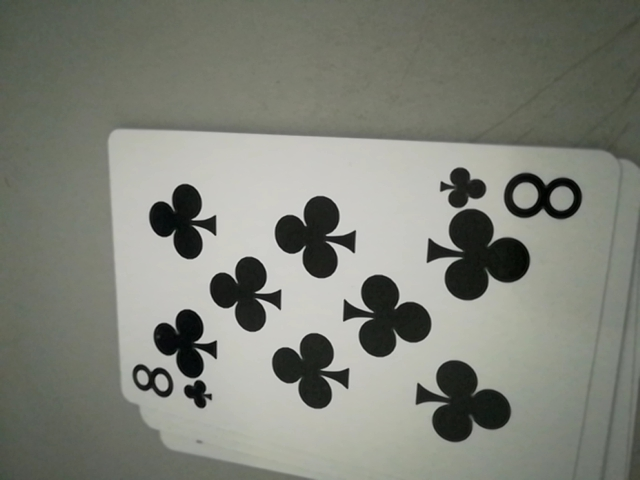mh 8: (436, 162, 584, 221), (127, 362, 213, 415)
